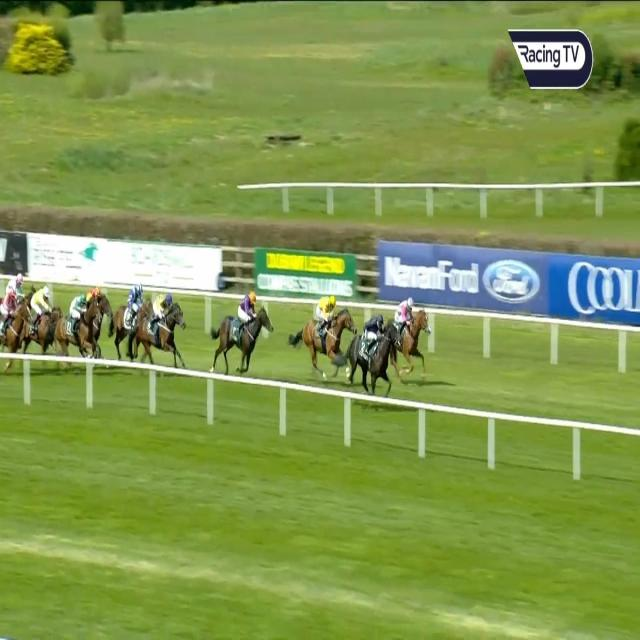horses-racing: (303, 294, 354, 379), (216, 296, 272, 370), (351, 316, 403, 386), (388, 295, 430, 373), (144, 289, 190, 358), (64, 292, 97, 362), (118, 280, 150, 348), (29, 287, 62, 349), (0, 295, 27, 356), (86, 281, 118, 318), (7, 274, 36, 311)
